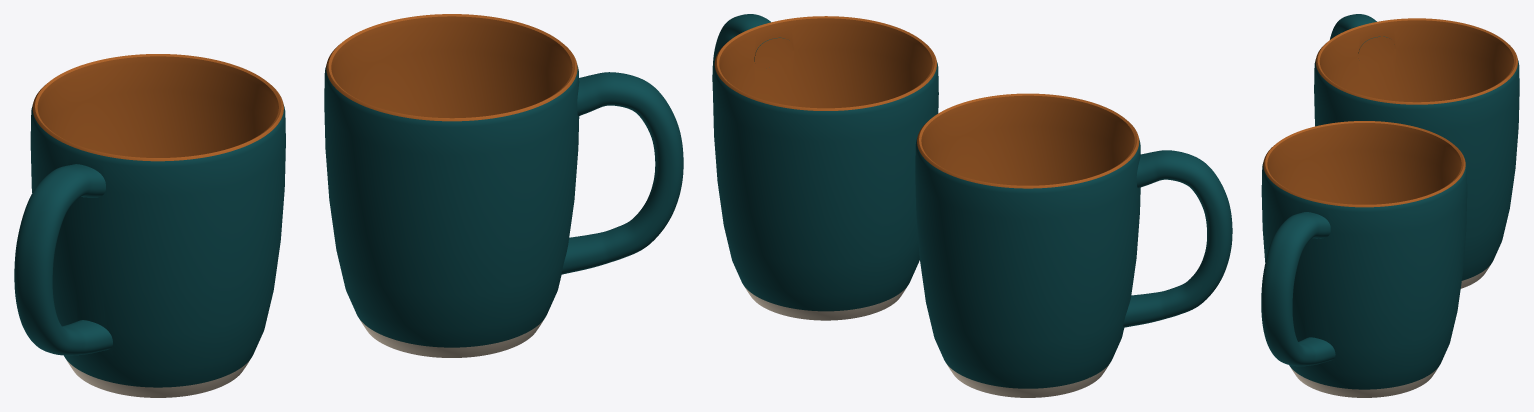
3 views of the same model, side by side, from view 1: azimuth 30°, elevation 25°; view 2: azimuth 150°, elevation 25°; view 3: azimuth 270°, elevation 25° (orthographic). The views are drawn at different scales.
Parts seen in each view (by area): view 1: SHAY Teal Coffee Mugs; view 2: SHAY Teal Coffee Mugs; view 3: SHAY Teal Coffee Mugs.
Part boxes in pixels (bbox=[...]): SHAY Teal Coffee Mugs: bbox=[14, 14, 683, 397]; SHAY Teal Coffee Mugs: bbox=[712, 14, 1232, 397]; SHAY Teal Coffee Mugs: bbox=[1261, 14, 1519, 397].
Size of the model in its own units: 0.2436 by 0.0953 by 0.1086.
